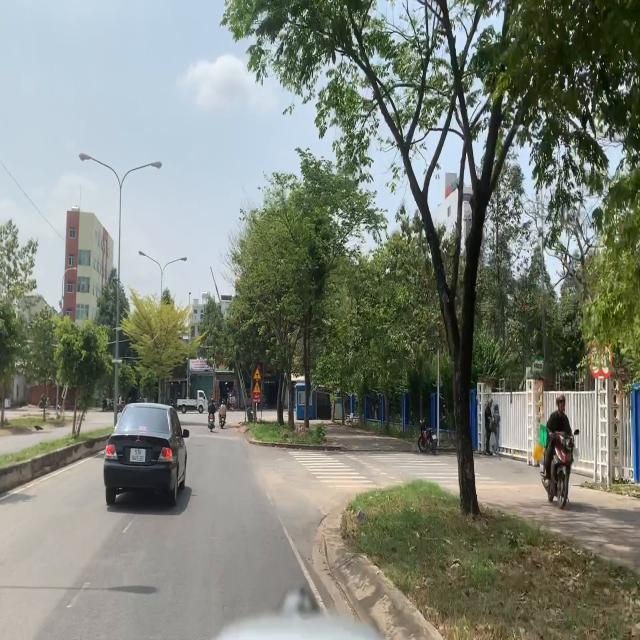Duong giao nhau: (252, 367, 262, 380)
Nguoi di bo cat ngang: (252, 381, 262, 394)
